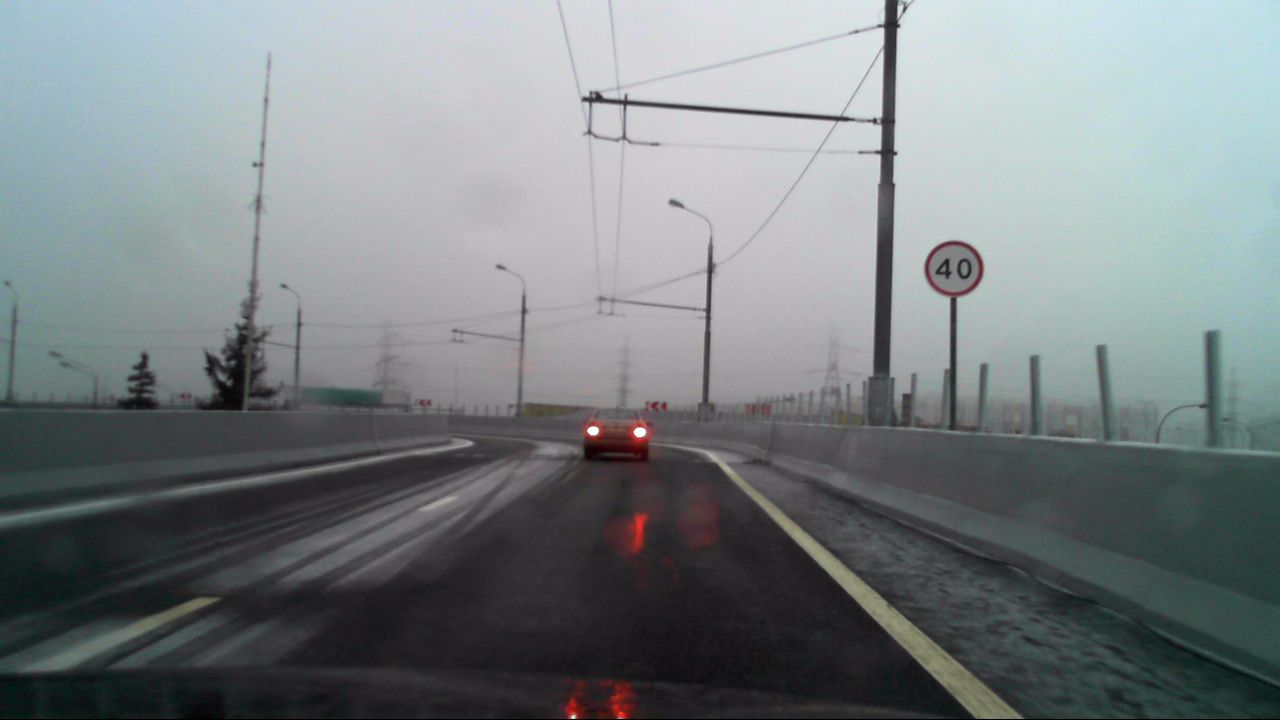speed_warning_40: (924, 240, 985, 297)
